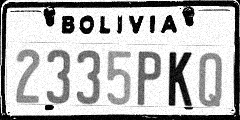2: (7, 41, 37, 108)
3: (38, 41, 70, 108), (70, 41, 102, 108)
5: (103, 41, 135, 108)
K: (168, 41, 199, 108)
P: (135, 41, 167, 108)
Q: (199, 41, 231, 108)
